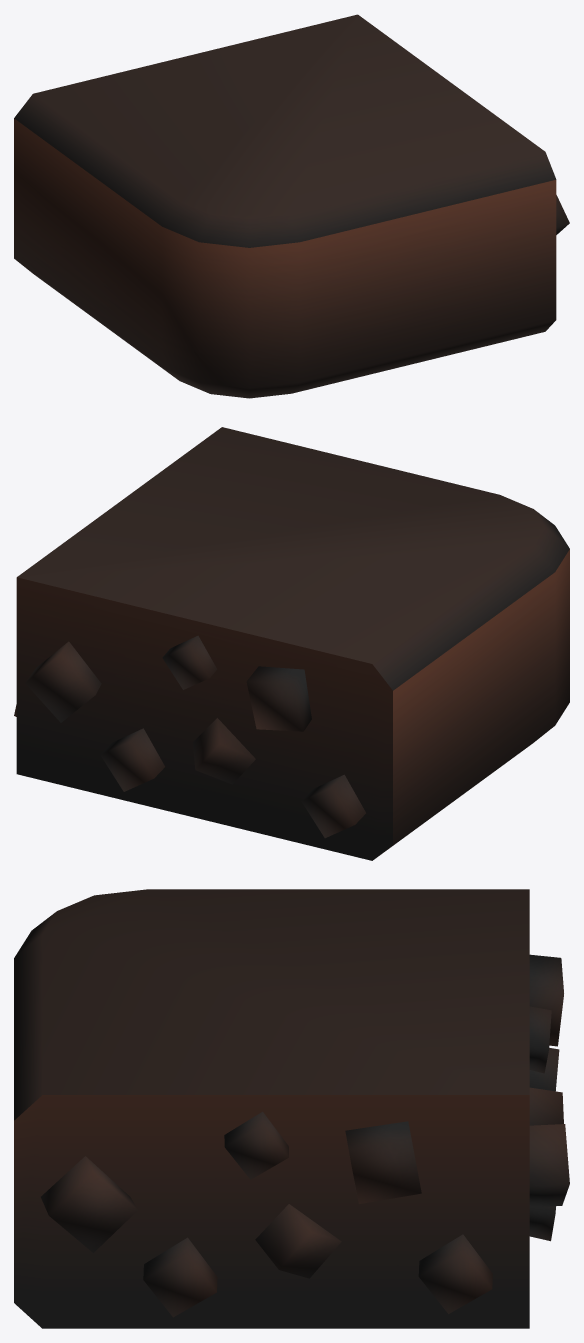
Rendered from m_Brownie02_Slice01.fbx.
3 renders of one model, top to bottom at view 1: azimuth 30°, elevation 25°; view 2: azimuth 150°, elevation 25°; view 3: azimuth 270°, elevation 25°, orthographic. The views are drawn at different scales.
Visible parts, largest first — view 1: m_Brownie02_Slice01; view 2: m_Brownie02_Slice01; view 3: m_Brownie02_Slice01.
Part boxes in pixels (x1=…): m_Brownie02_Slice01: x1=14, y1=14, x2=569, y2=398; m_Brownie02_Slice01: x1=14, y1=427, x2=569, y2=860; m_Brownie02_Slice01: x1=14, y1=889, x2=569, y2=1328.
Size of the model in its own units: 10.78 by 5 by 10.78.
